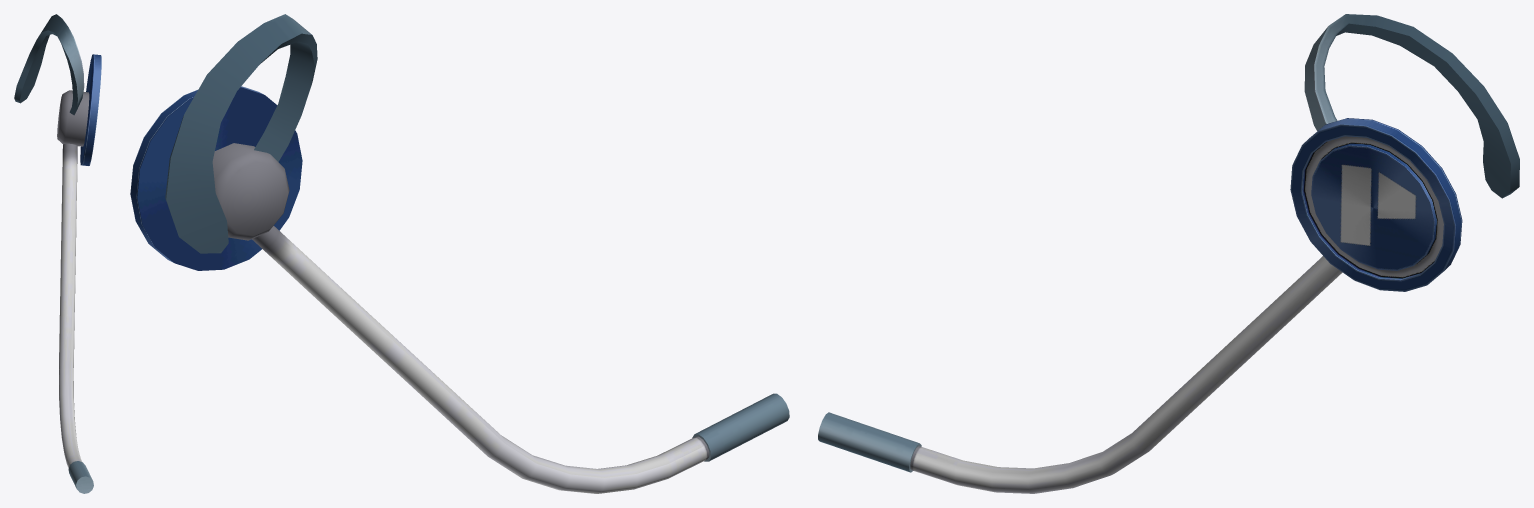
Rendered from EntrainingIntercomKanata.fbx.
3 views of the same model, side by side, from view 1: azimuth 30°, elevation 25°; view 2: azimuth 150°, elevation 25°; view 3: azimuth 270°, elevation 25° (orthographic). The views are drawn at different scales.
Parts seen in each view (by area): view 1: EntrainingIntercomKanata; view 2: EntrainingIntercomKanata; view 3: EntrainingIntercomKanata.
Part boxes in pixels (bbox=[...]): EntrainingIntercomKanata: bbox=[14, 14, 101, 493]; EntrainingIntercomKanata: bbox=[130, 14, 789, 493]; EntrainingIntercomKanata: bbox=[818, 14, 1519, 493].
Size of the model in its own units: 0.0469 by 0.0729 by 0.0827.
1 material, 1 textured.
